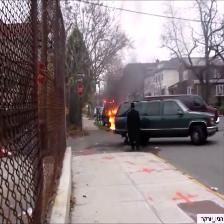fire: (99, 95, 139, 142)
